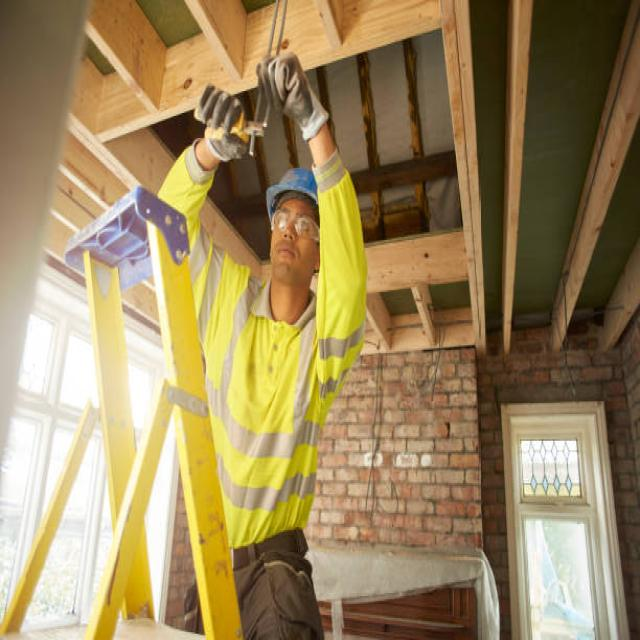gloves: (253, 47, 331, 141), (193, 83, 248, 163)
